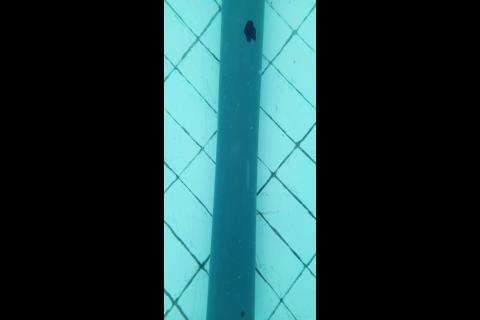kebocoran: (243, 19, 257, 42)
